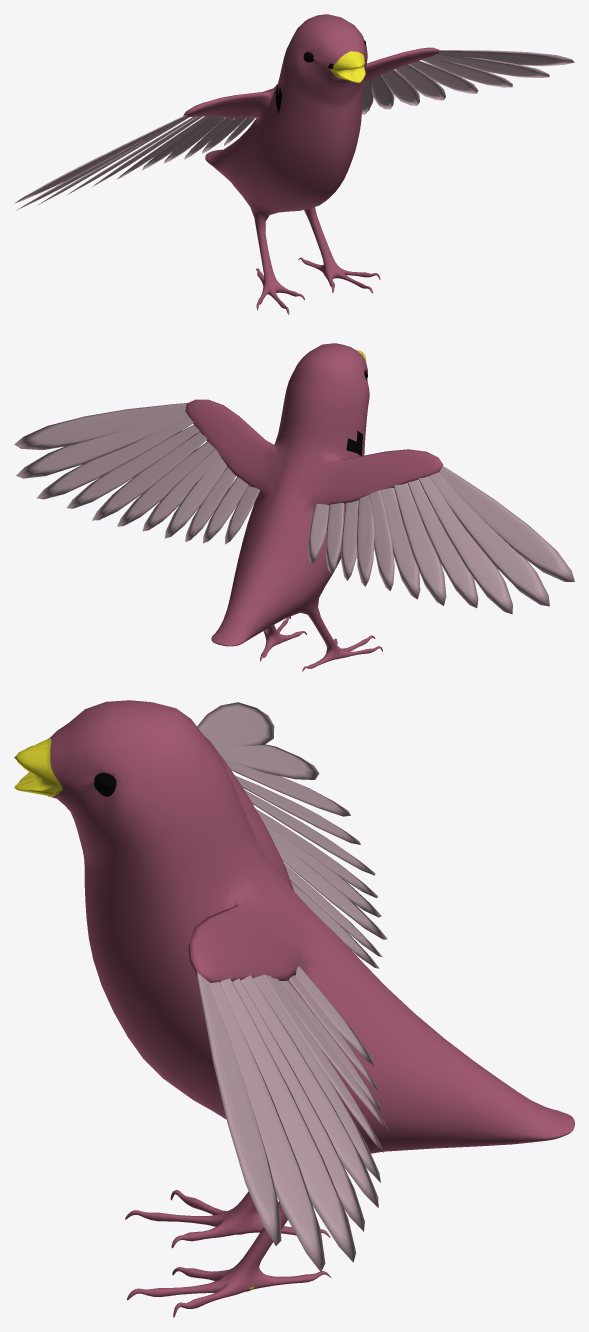
Rendered from cuerpo.OBJ.
3 renders of one model, top to bottom at view 1: azimuth 30°, elevation 25°; view 2: azimuth 150°, elevation 25°; view 3: azimuth 270°, elevation 25°, orthographic. The views are drawn at different scales.
Visible parts, largest first — view 1: polySurface939; view 2: polySurface939; view 3: polySurface939.
Part boxes in pixels (<box>): polySurface939: <box>14,14,574,314</box>; polySurface939: <box>14,343,574,671</box>; polySurface939: <box>14,700,574,1317</box>.
Bounding box in the file's own units: 3.06 × 1.48 × 1.35.
5 materials, 5 textured.
